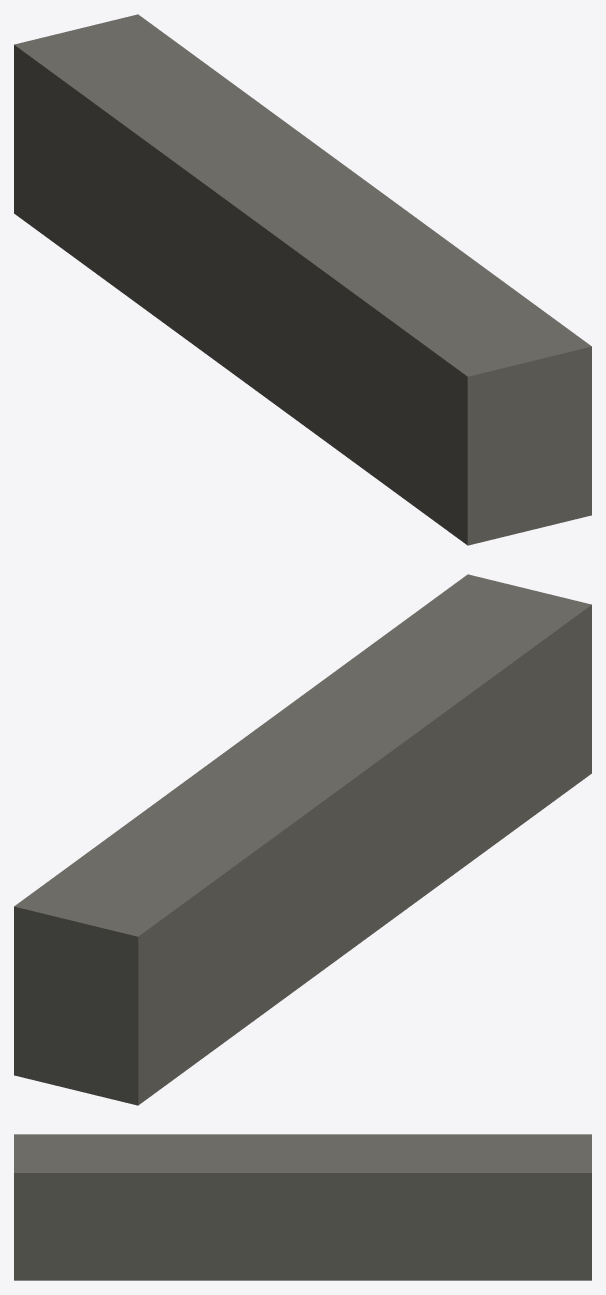
File: pipeset2_stand.fbx
3 views of the same model, one above another, from view 1: azimuth 30°, elevation 25°; view 2: azimuth 150°, elevation 25°; view 3: azimuth 270°, elevation 25° (orthographic). The views are drawn at different scales.
Visible parts, largest first — view 1: pipeset2_stand; view 2: pipeset2_stand; view 3: pipeset2_stand.
Boxes of the visible parts, <box> form: pipeset2_stand: <box>14,14,591,545</box>; pipeset2_stand: <box>14,574,591,1105</box>; pipeset2_stand: <box>14,1134,591,1280</box>.
Size of the model in its own units: 94.78 by 123 by 600.
